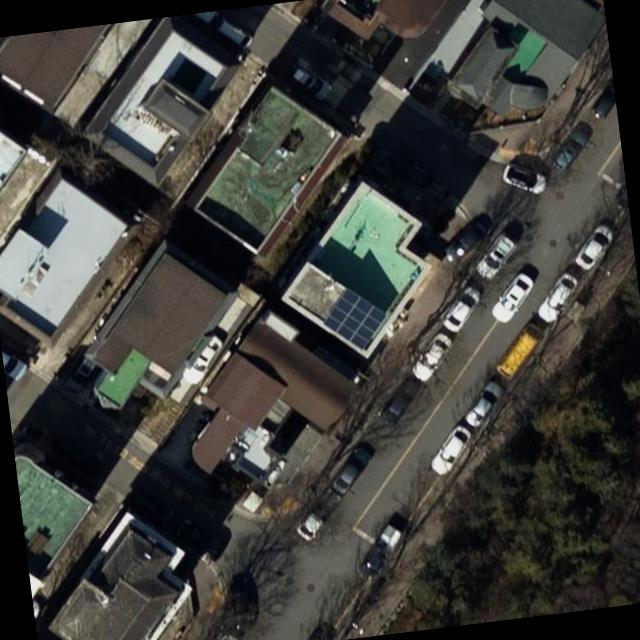solar: (316, 283, 392, 355)
